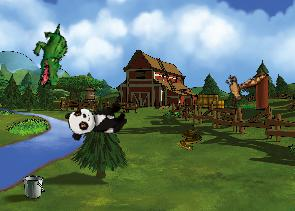crocodile: (27, 23, 75, 89)
eagle: (215, 57, 269, 115)
panda: (64, 98, 129, 142)
